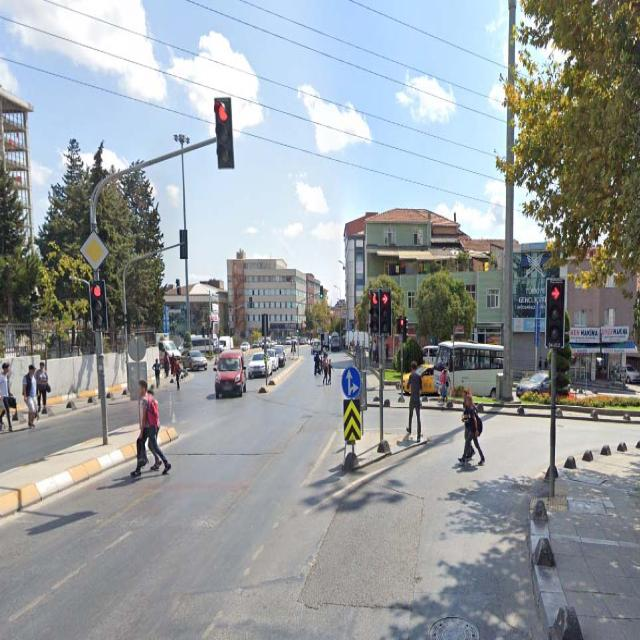kirmizi: (214, 95, 234, 168), (546, 278, 564, 348), (89, 279, 106, 332), (369, 288, 380, 336), (380, 288, 390, 336)
